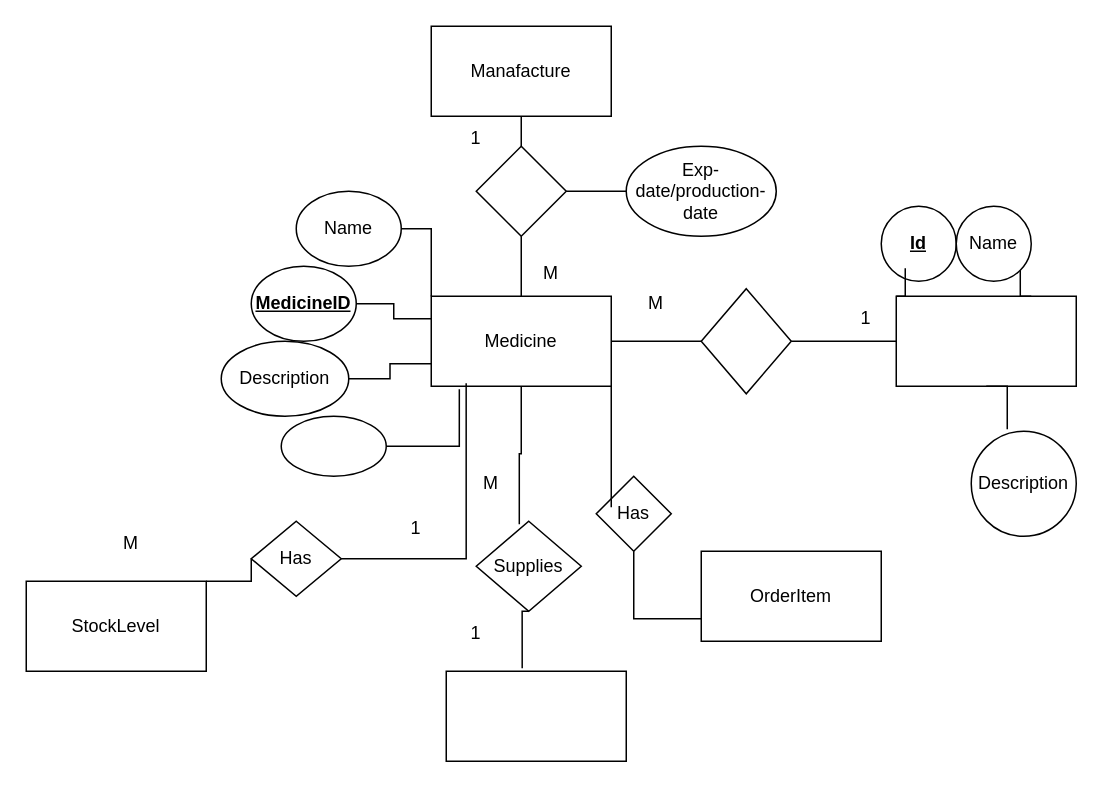
Image size: 1103x788. Some labels were removed from this diagram. Each missing label, with the box of its shape:
Contain: (700, 287, 791, 394)
makes: (475, 145, 566, 236)
MedicineCategory: (895, 295, 1076, 386)
Price: (280, 415, 386, 476)
Supplier: (445, 670, 626, 761)
